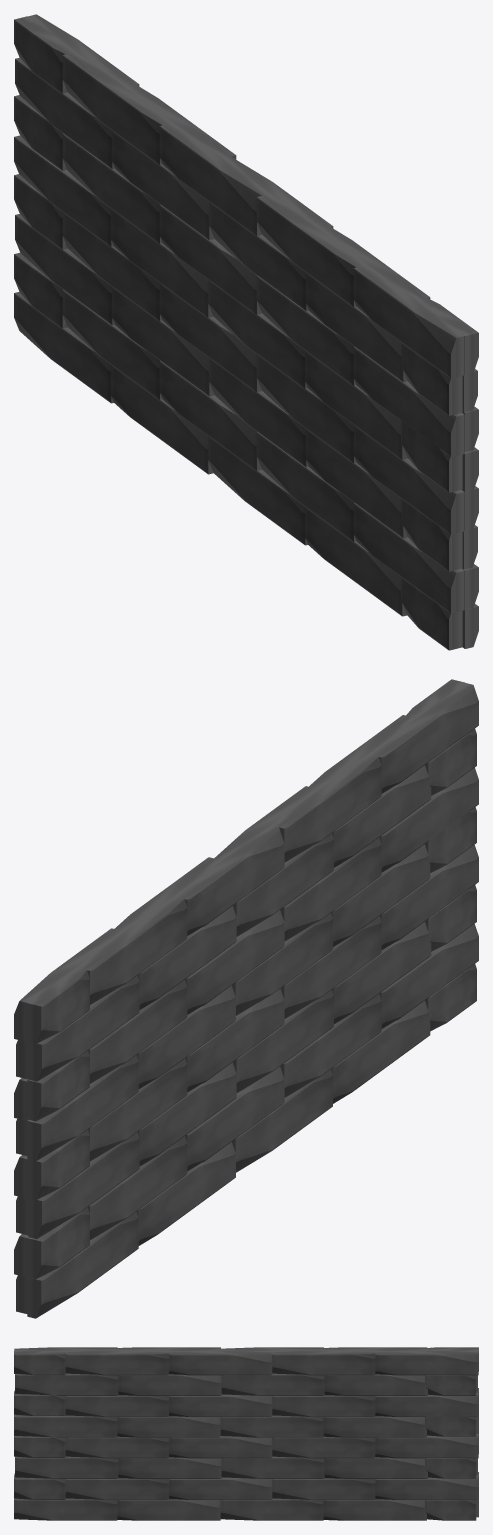
File: StoneWall.fbx
The picture shows the model from 3 angles, top to bottom: view 1: azimuth 30°, elevation 25°; view 2: azimuth 150°, elevation 25°; view 3: azimuth 270°, elevation 25°; orthographic projection. The views are drawn at different scales.
Visible parts, largest first — view 1: Wall; view 2: Wall; view 3: Wall.
Boxes of the visible parts, <box> form: Wall: <box>14,14,478,650</box>; Wall: <box>14,679,478,1318</box>; Wall: <box>14,1347,478,1520</box>.
Size of the model in its own units: 10.79 by 113 by 287.
